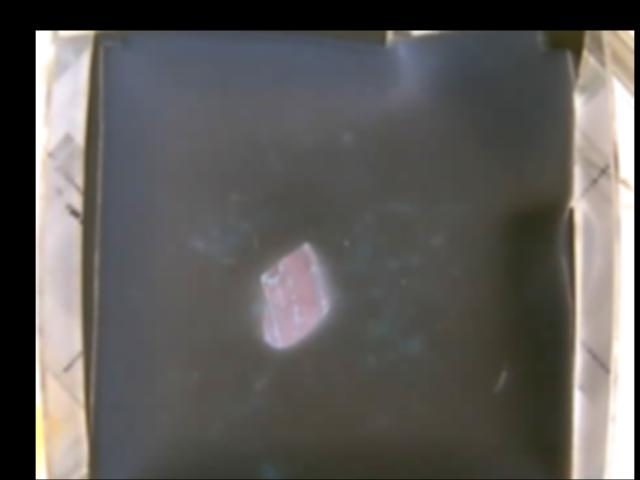China: (254, 243, 329, 349)
